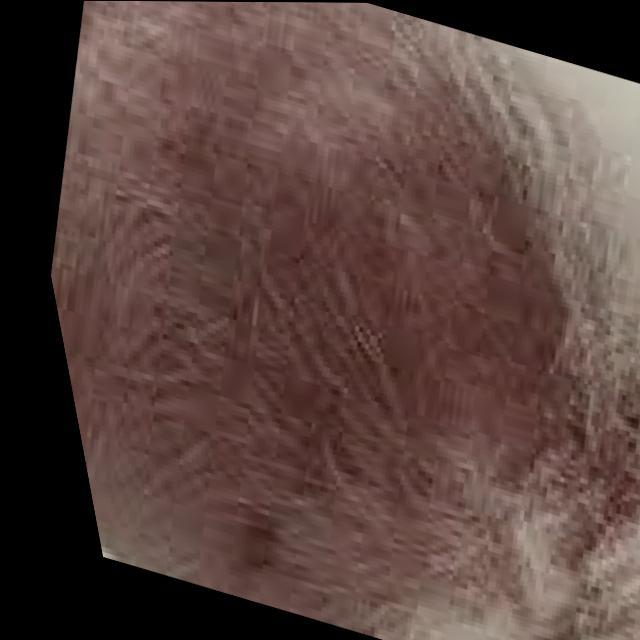nhiem nam (cho): (44, 0, 640, 640)
